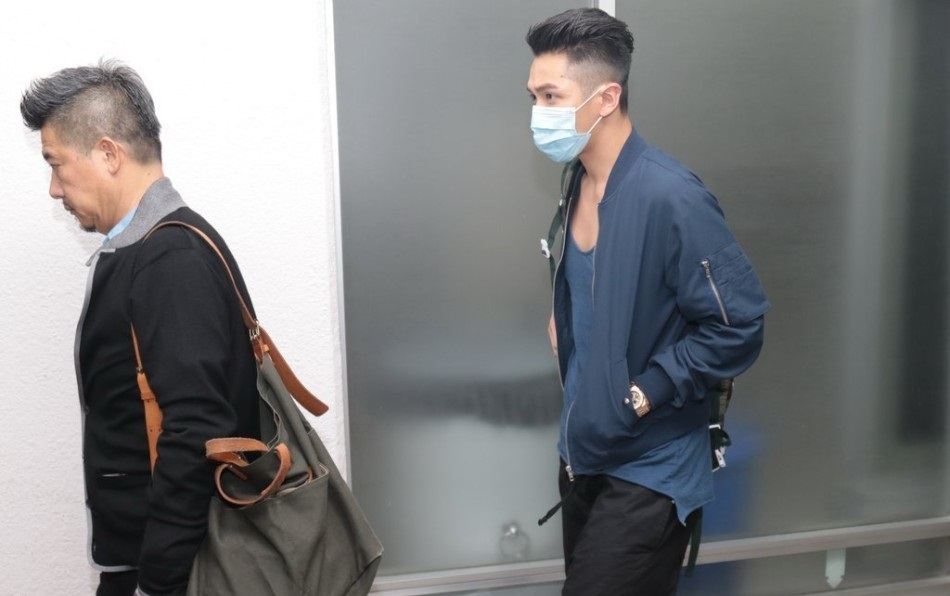face: (36, 121, 124, 232)
face_mask: (523, 52, 610, 157)
